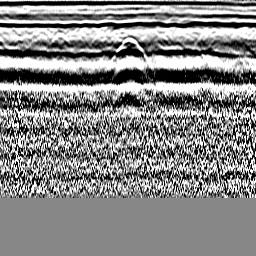cavity: (106, 36, 150, 62)
